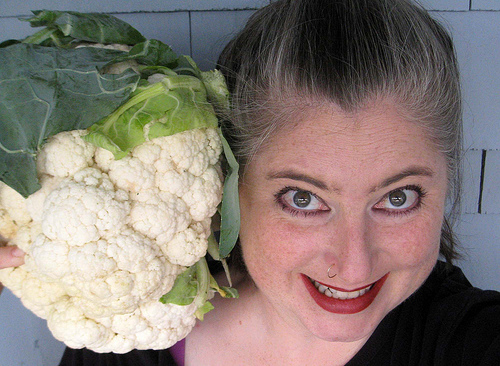cauliflower: (1, 10, 239, 354)
